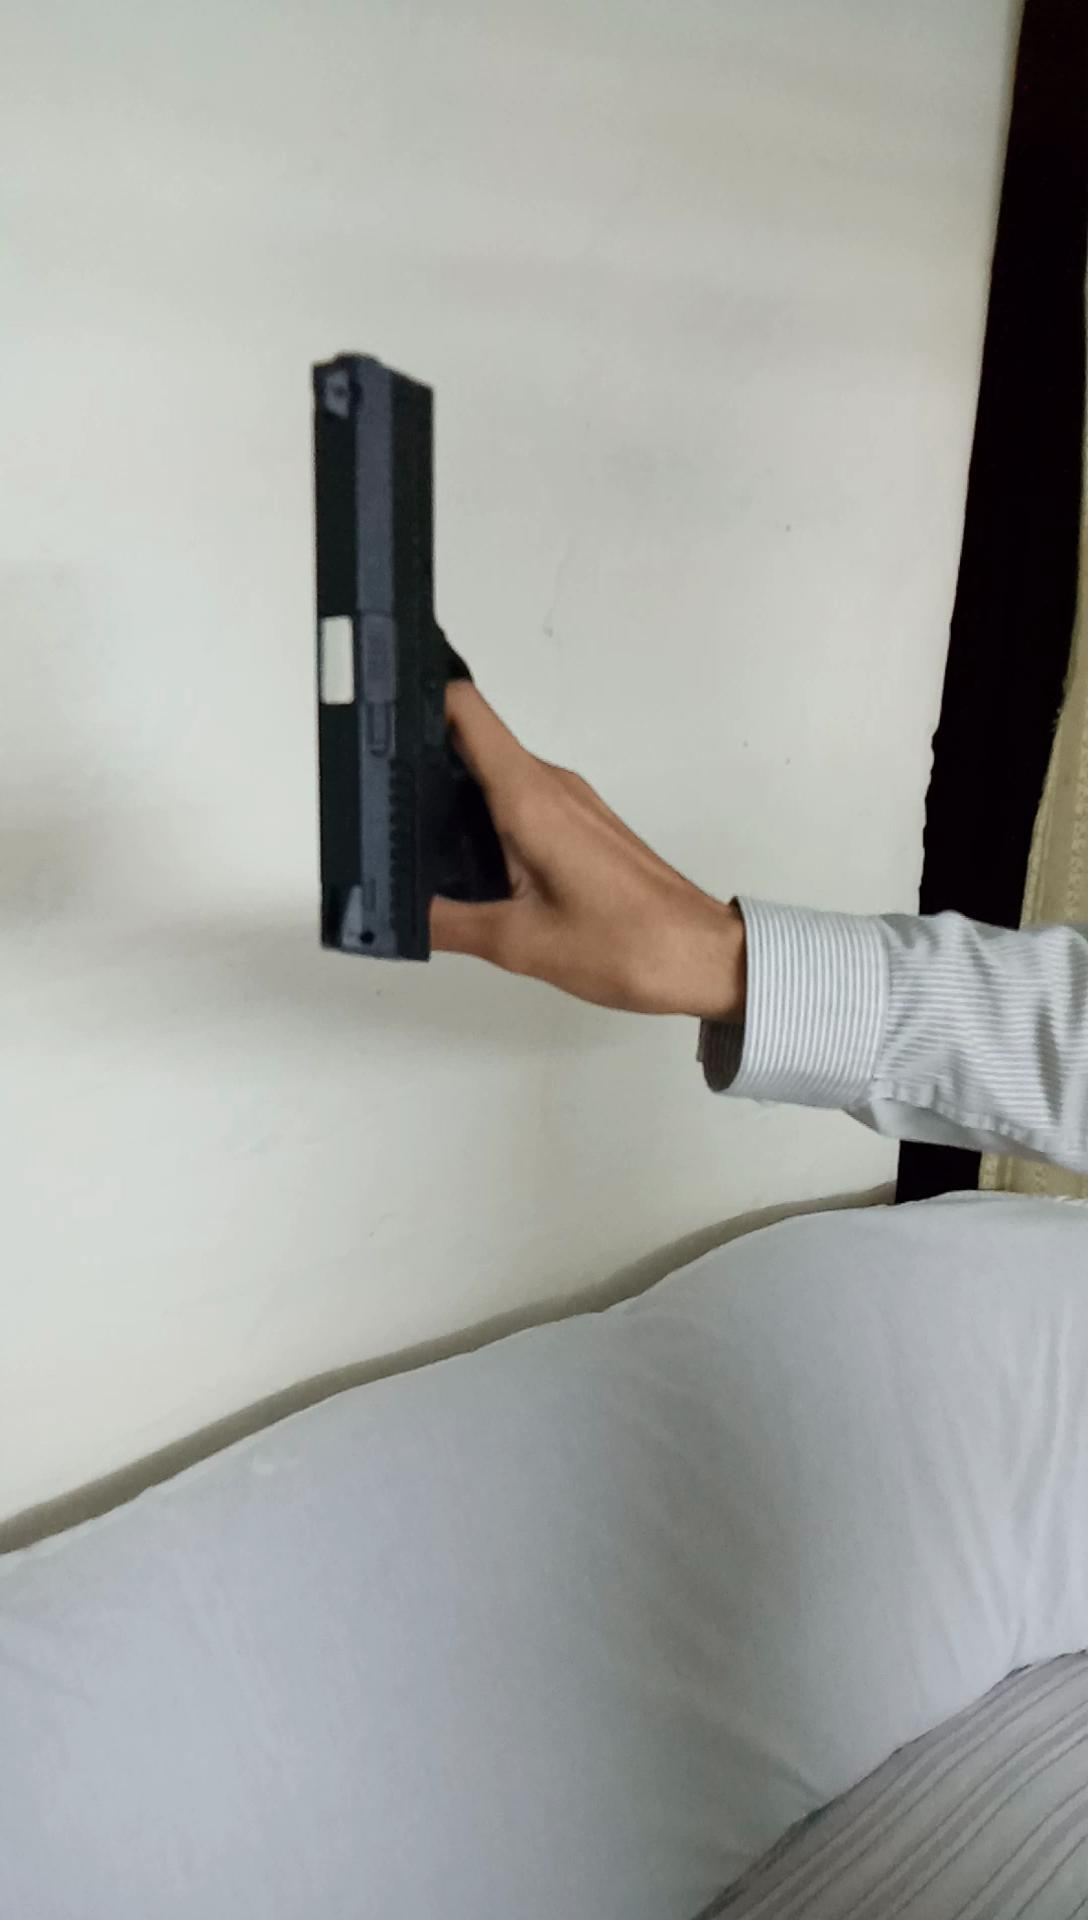weapon: (287, 331, 582, 985)
